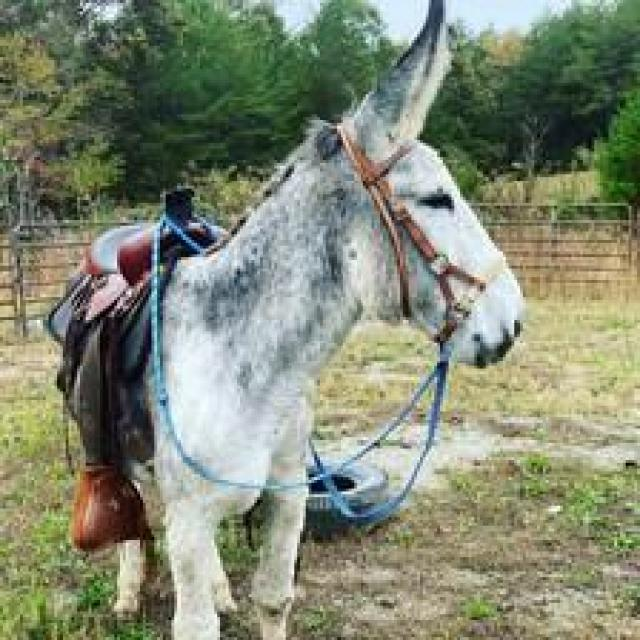Donkey: (51, 0, 526, 637)
